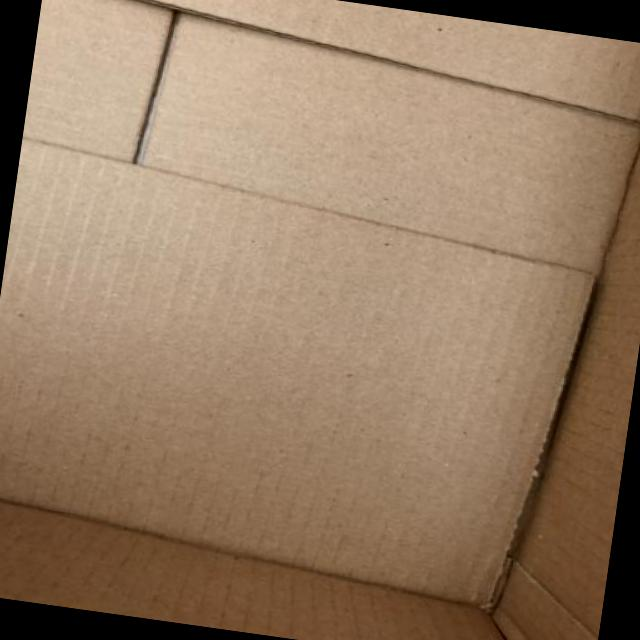cardboard: (0, 0, 639, 639), (0, 140, 592, 603), (142, 15, 639, 269), (0, 503, 502, 639), (518, 159, 639, 639), (157, 0, 639, 118), (23, 0, 173, 159), (496, 563, 598, 639), (494, 609, 528, 639)
